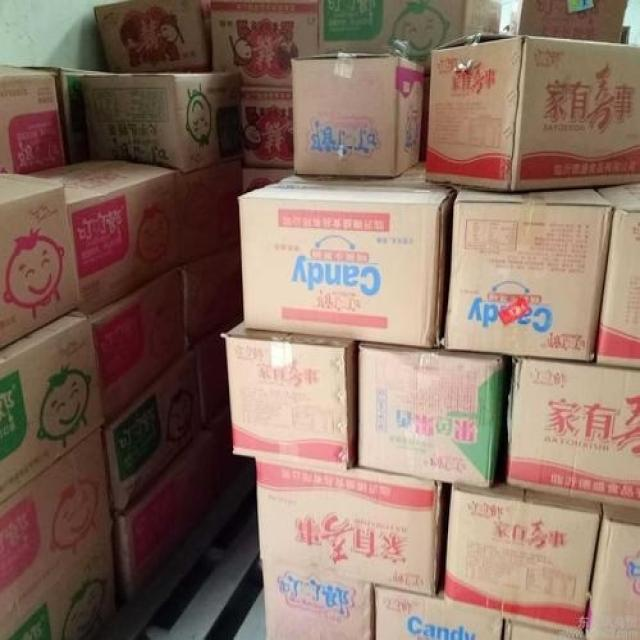box: (237, 160, 456, 348), (425, 33, 640, 192), (444, 185, 614, 362), (255, 458, 440, 597), (22, 157, 182, 313), (442, 481, 600, 636), (0, 424, 113, 639), (358, 341, 507, 488), (0, 307, 106, 506), (224, 320, 358, 470), (506, 358, 640, 508), (110, 426, 223, 600), (292, 51, 426, 177), (83, 68, 244, 171), (102, 348, 200, 513), (90, 264, 187, 423), (0, 170, 79, 351), (0, 526, 116, 640), (317, 0, 502, 65), (209, 0, 317, 86), (261, 559, 372, 640), (594, 181, 640, 371), (93, 0, 210, 72), (582, 501, 640, 640), (22, 65, 104, 161), (172, 154, 243, 264), (0, 64, 68, 174), (372, 586, 506, 640), (182, 237, 243, 349), (195, 312, 243, 430), (502, 0, 628, 42), (239, 83, 293, 167), (503, 618, 586, 640), (242, 166, 294, 193)
